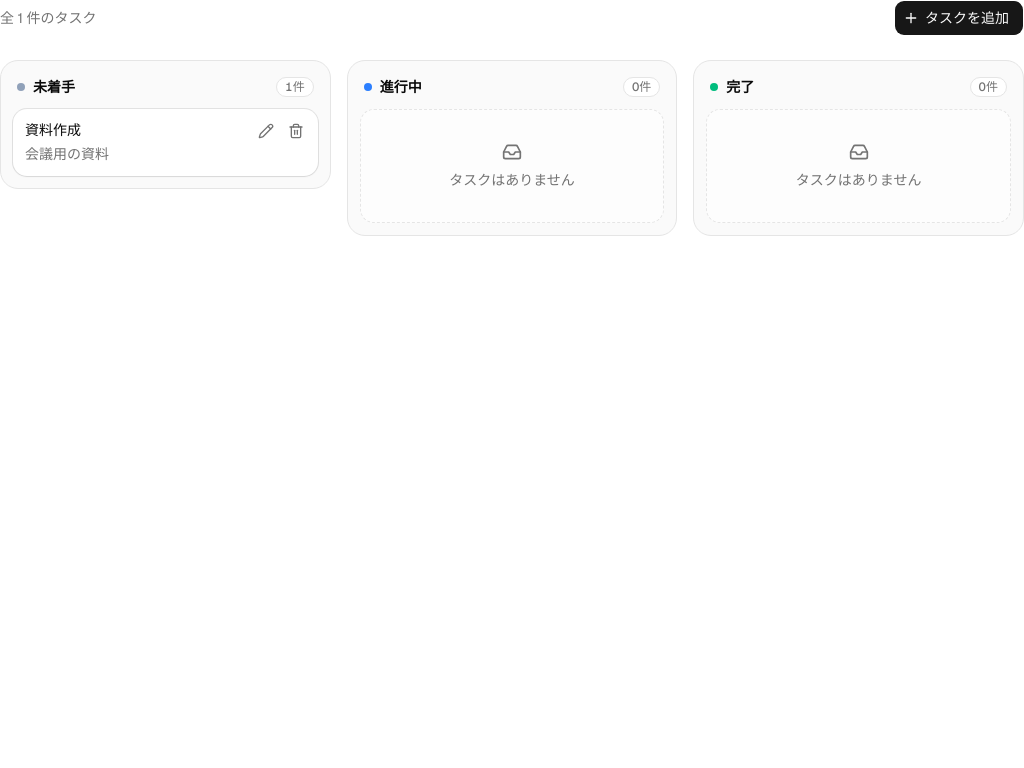
Scenario: KanbanBoard › 編集 › タイトルを変更して保存すると、一覧にすぐ反映する
Click the button named "「資料作成」を編集".
click(266, 131)  # box [252,117,280,145]
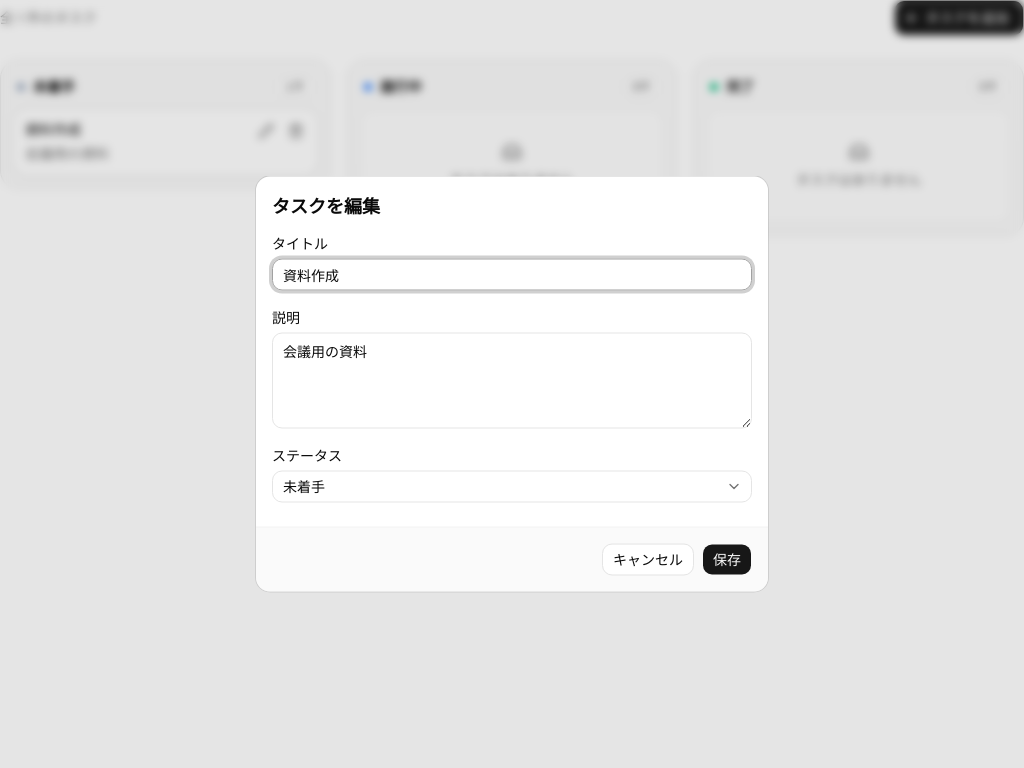
Replace the text in the field labelled "タイトル" with "資料レビュー" at (512, 274), box [272,258,752,290]
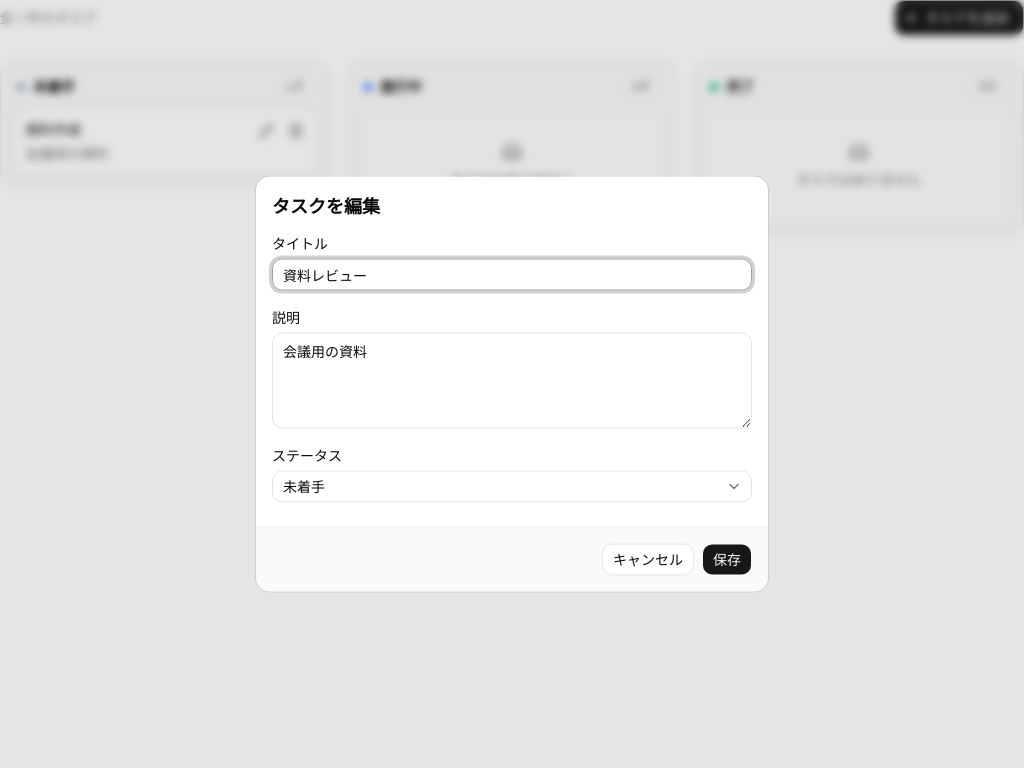
Click the button "保存".
click(727, 560)  # box [702,544,752,576]
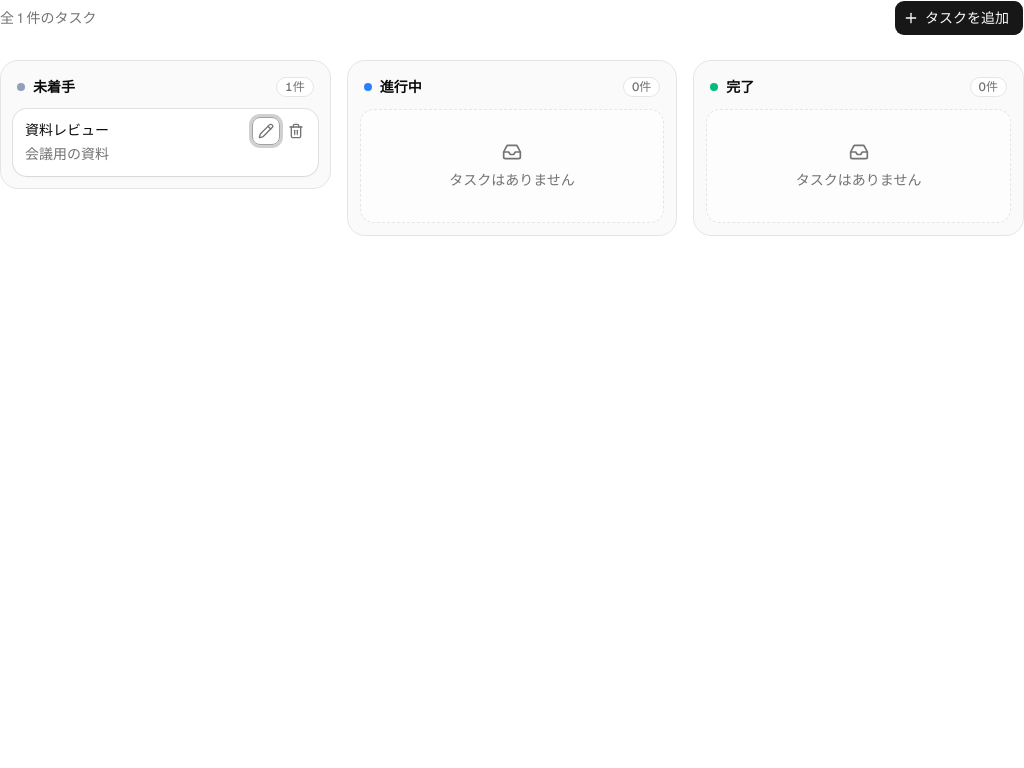
Expected: the dialog is gone
Expected: the heading "資料レビュー" is shown, [25,121,109,139]
Expected: the heading "資料作成" is gone
